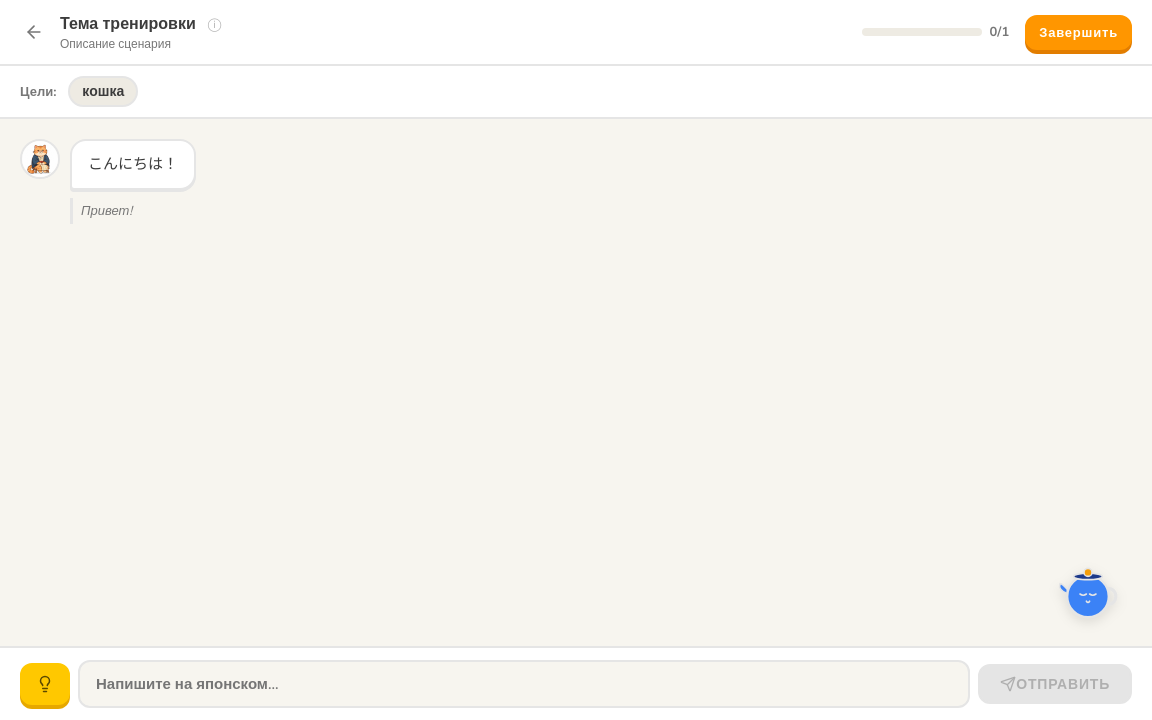
Test case: Self-Repair and Scaffolding Hint UI Tests › при isCorrect=false правка скрыта, виден shortNote и кнопка Показать правку
Expected: the heading "Тема тренировки ⓘ" is shown, [60, 12, 225, 36]
Expected: the text "こんにちは！" is shown, [88, 154, 178, 174]
Type "公園に遊びます。" into the text box with placeholder "Напишите на японском..." at (524, 684), box [78, 660, 970, 708]
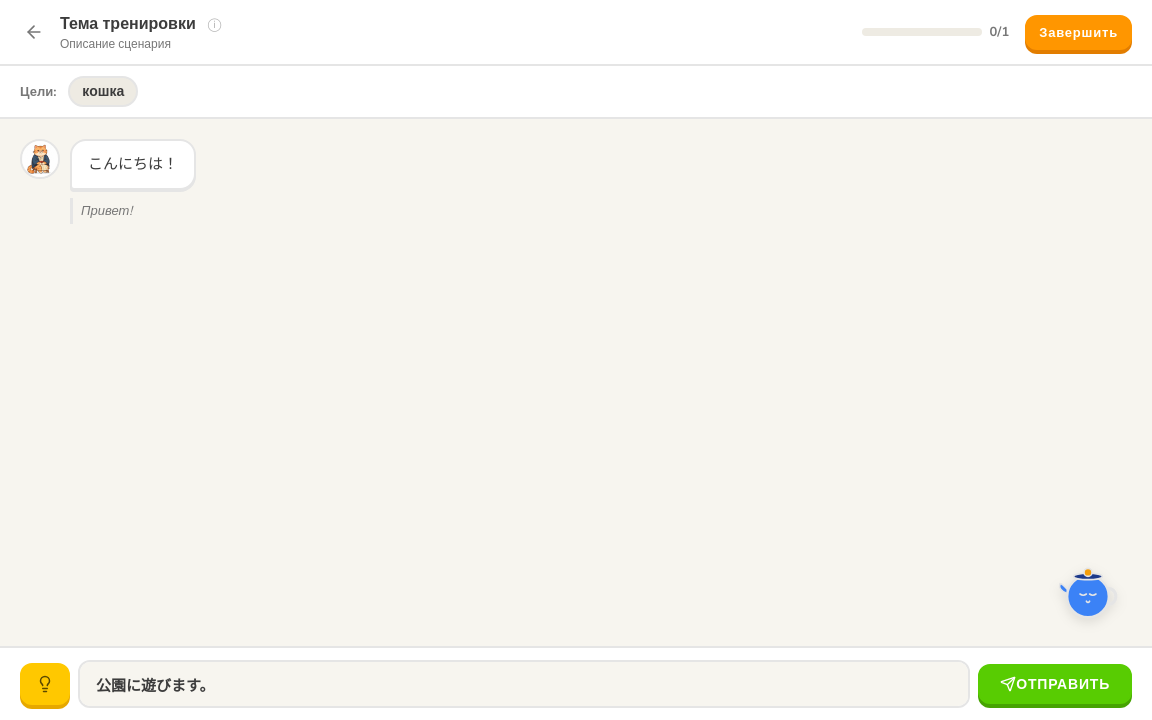
Click the button "Отправить" at (1055, 684), box [978, 664, 1132, 704]
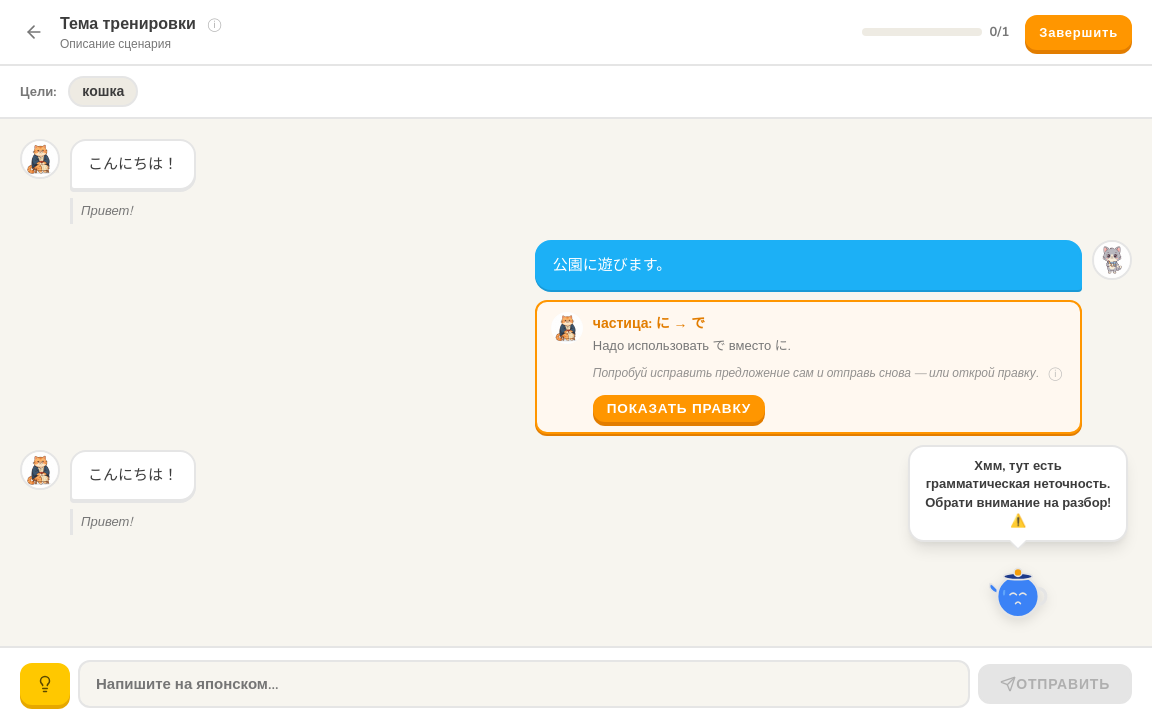
Expected: the text "частица: に → で" is shown, [593, 314, 705, 333]
Expected: the text "Надо использовать で вместо に." is shown, [593, 337, 791, 355]
Expected: the text "Попробуй исправить предложение сам и отправь снова — или открой правку." is shown, [593, 365, 1038, 381]
